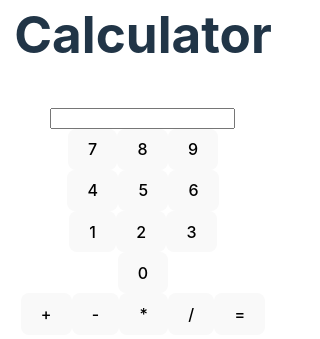
Scenario: calculator › should user input after clicking several numbers
Click the button "1" at (93, 232), box left=69, top=211, right=116, bottom=252
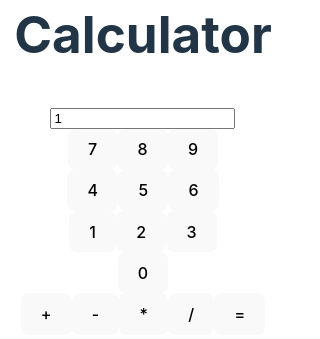
Click the button "2" at (141, 232), box left=116, top=211, right=166, bottom=252
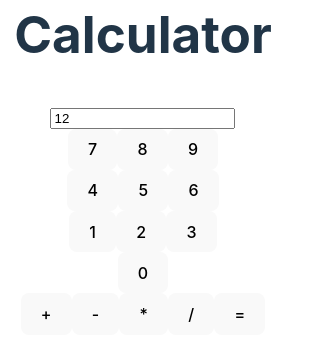
Click the button "3" at (192, 232), box left=166, top=211, right=217, bottom=252
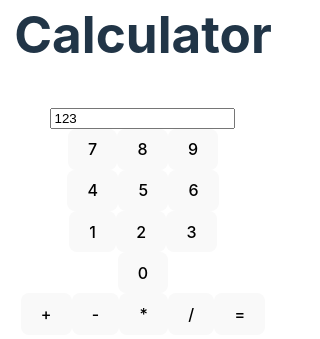
Check: the field holds "123", box left=50, top=108, right=236, bottom=129
